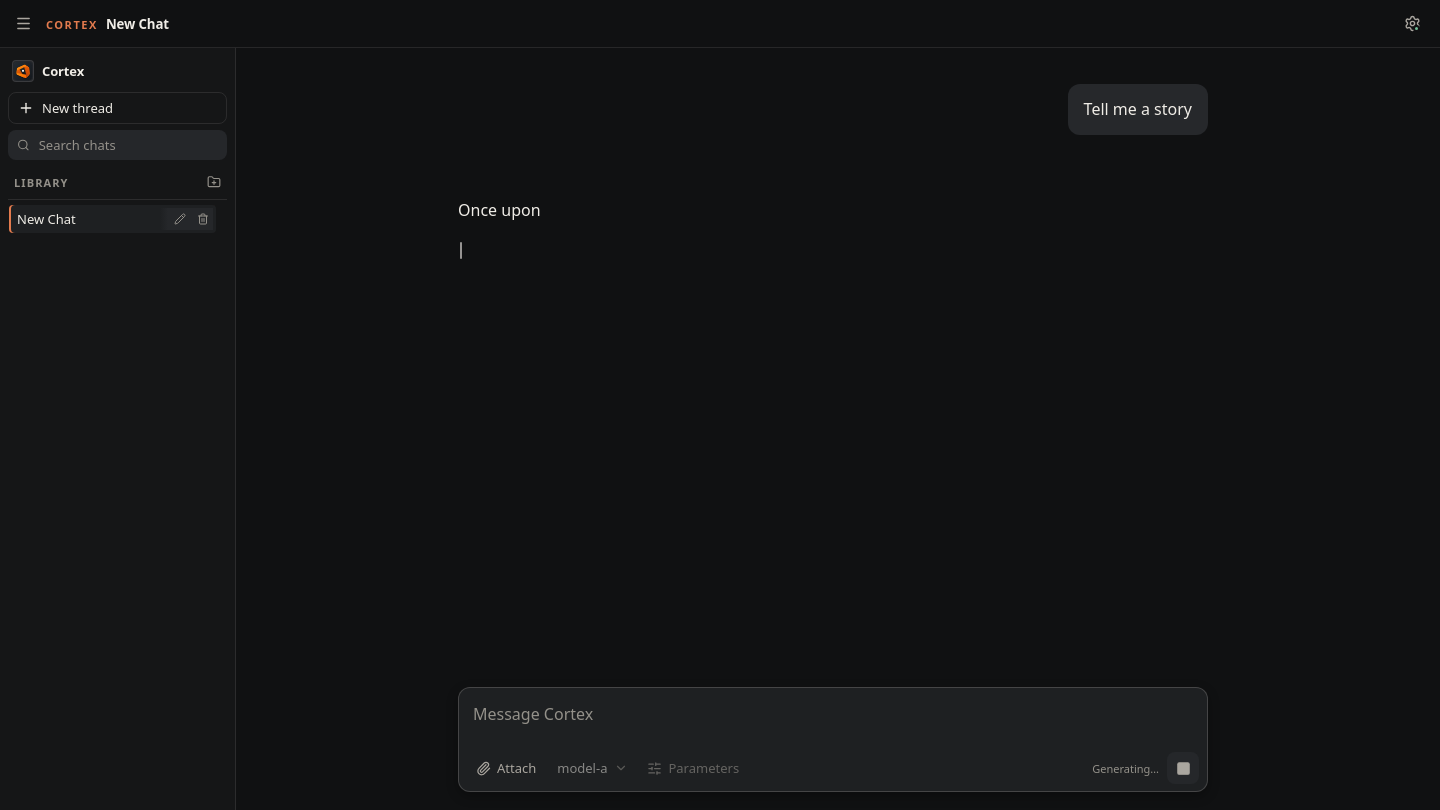
a generation while Settings is open › keeps streaming into the store while Settings is open
The image size is (1440, 810).
Check: the text "Tell me a story" is shown, box [1084, 96, 1192, 123]
Click the link named "Settings": (1412, 24) [1404, 15, 1420, 32]
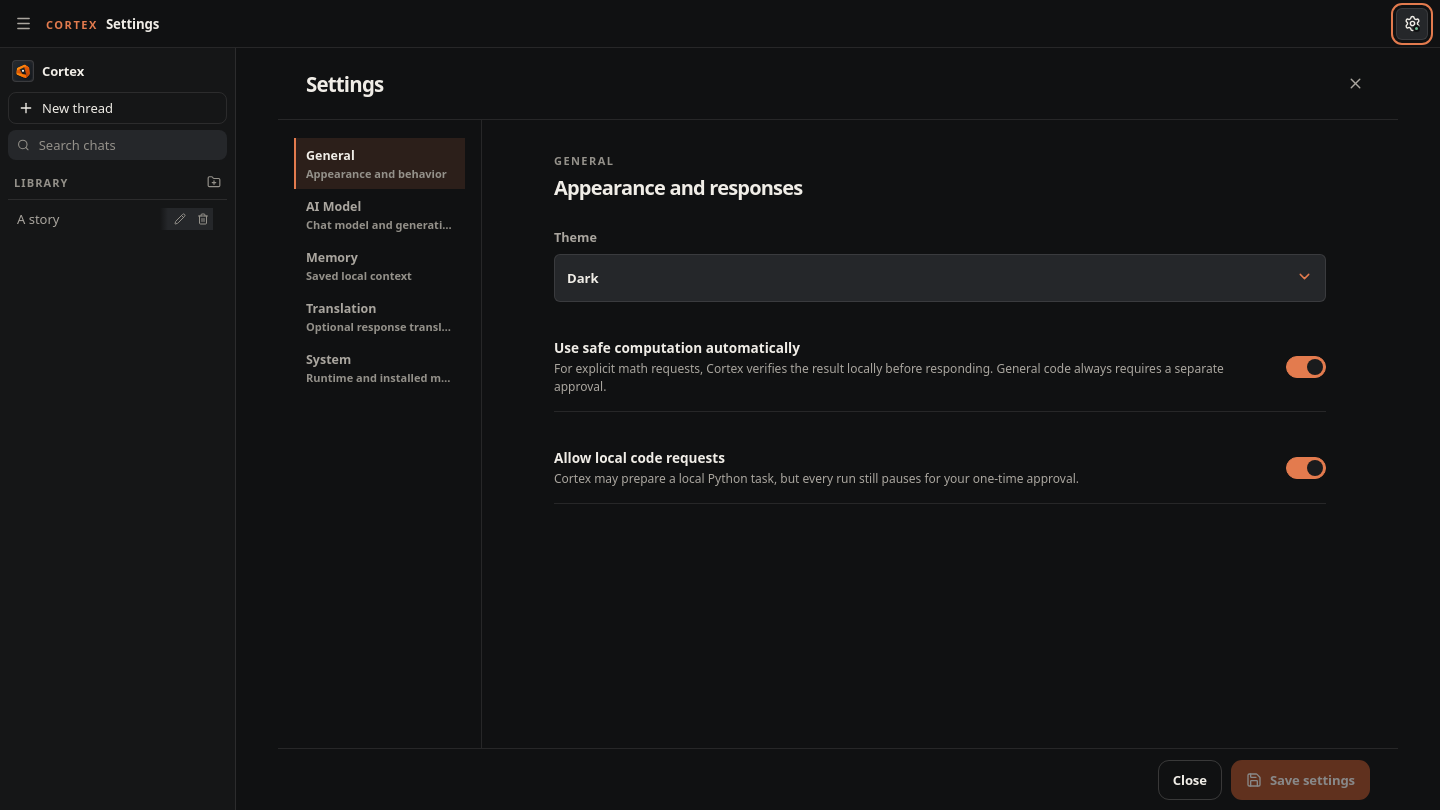
Check: the button "A story" is shown, box [9, 210, 216, 228]
Check: the 2nd heading "Settings" is shown, box [306, 70, 383, 98]
Click the button named "Close settings": (1355, 84) [1340, 68, 1370, 98]
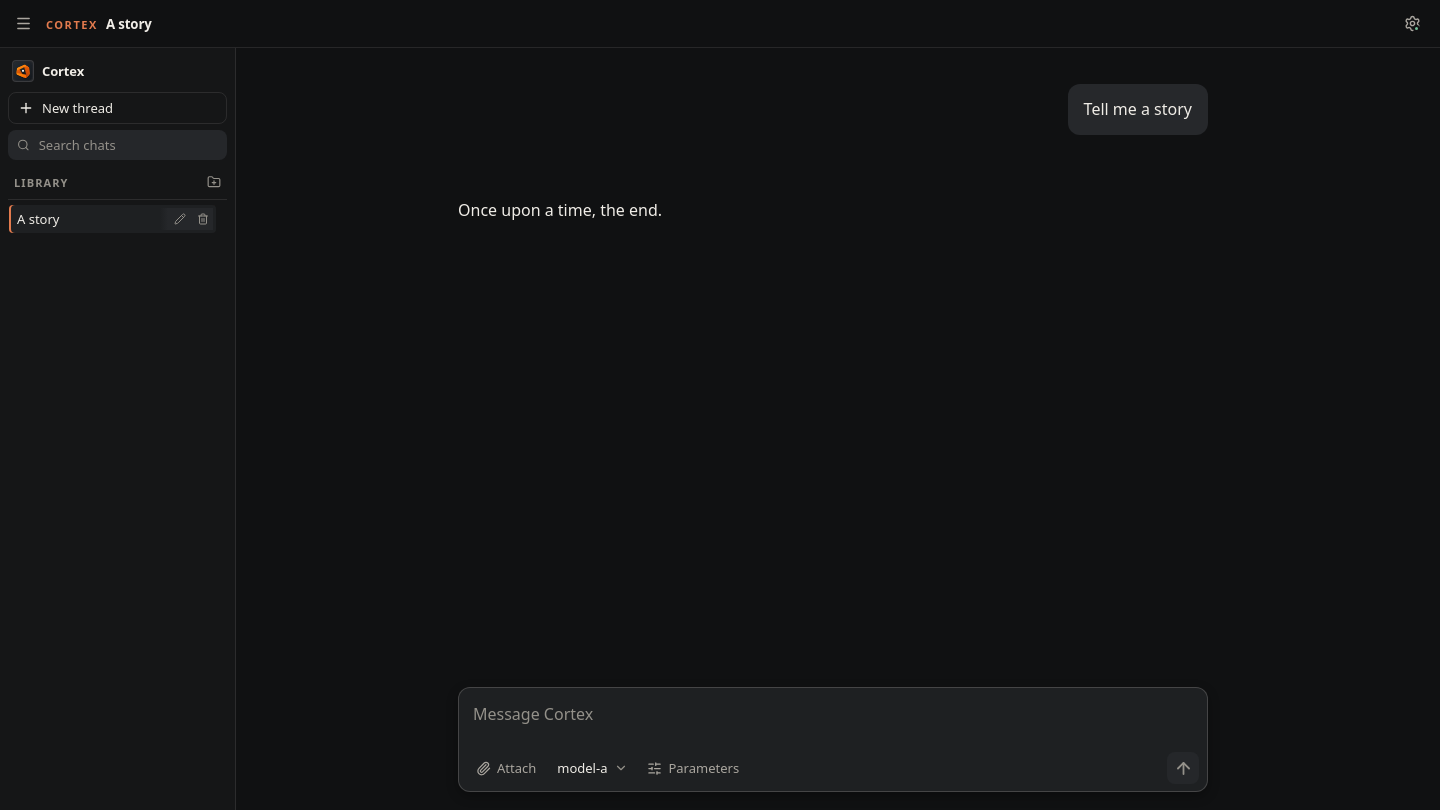
Check: the text "Once upon a time, the end." is shown, box [458, 199, 662, 221]
